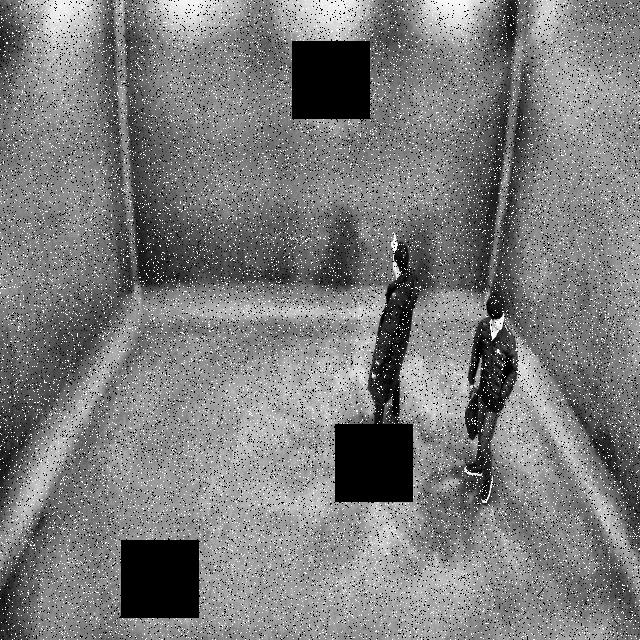assult: (360, 215, 526, 505)
